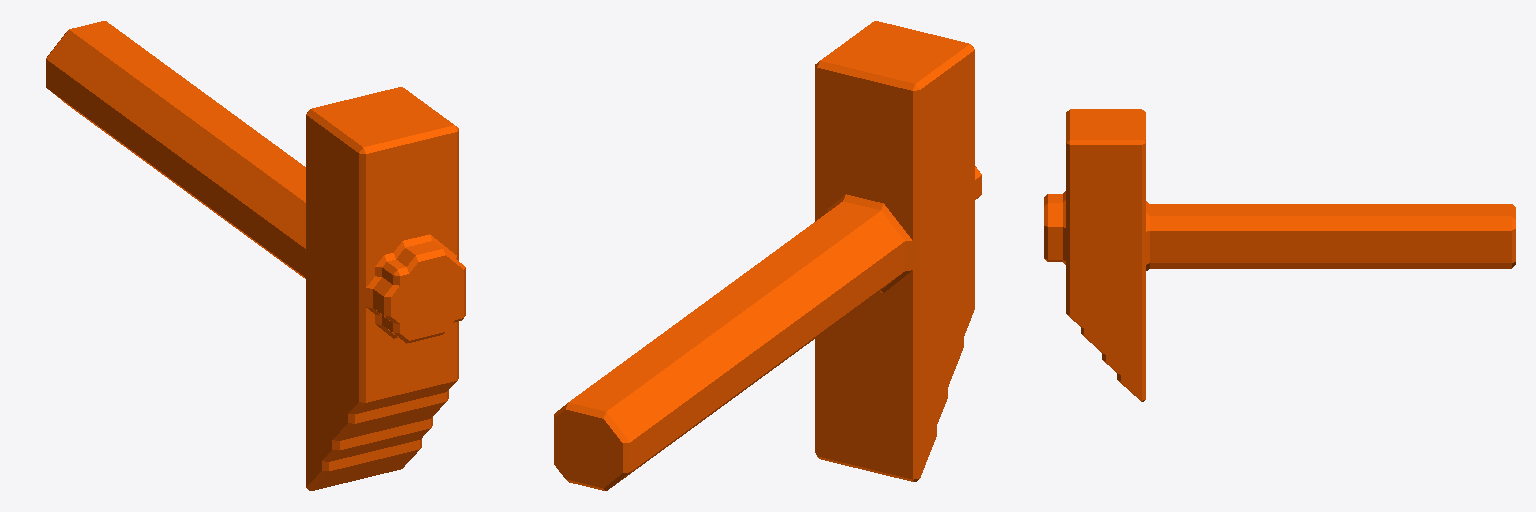
URDF robot description (Hammer_40):
<robot name="Hammer_40">
   <material name="obj_color">
      <color rgba="1.0 0.423529411765 0.0392156862745 1.0" />
   </material>
   <link name="top">
      <inertial>
         <origin rpy="9.125901172428908e-05 0.0004395809322403949 0.0005105114938638855" xyz="1.005177470530471e-05 -0.004956953893298789 0.001061884295576125" />
         <mass value="0.2144803350948126" />
         <inertia ixx="0.000510490454552392" ixy="2.968824023548629e-06" ixz="-4.862106100293714e-09" iyy="9.13463571222902e-05" iyz="4.805879009439267e-06" izz="0.0004395146261538873" />
      </inertial>
      <visual>
         <origin rpy="0 0 0" xyz="0 0 0" />
         <geometry>
            <mesh filename="top_watertight_tiny.stl" scale="1 1 1" />
         </geometry>
         <material name="obj_color" />
      </visual>
      <collision>
         <origin rpy="0 0 0" xyz="0 0 0" />
         <geometry>
            <mesh filename="top_watertight_tiny.obj" scale="1 1 1" />
         </geometry>
      </collision>
   </link>
   <link name="bottom">
      <inertial>
         <origin rpy="1.633333333194242e-08 1.633333333194243e-08 1.633333333357667e-08" xyz="0.3464080000000008 0.3464080000000008 0.3464080000000008" />
         <mass value="0.0009800000000000017" />
         <inertia ixx="1.633333333248717e-08" ixy="5.447480642029219e-19" ixz="5.447480642029219e-19" iyy="1.633333333248717e-08" iyz="5.447480642029219e-19" izz="1.633333333248717e-08" />
      </inertial>
      <visual>
         <origin rpy="0 0 0" xyz="0 0 0" />
         <geometry>
            <mesh filename="bottom_watertight_tiny.stl" scale="1 1 1" />
         </geometry>
         <material name="obj_color" />
      </visual>
   </link>
   <link name="world" />
   <joint name="world_to_base" type="fixed">
      <origin xyz="0 0 0" />
      <axis xyz="0 0 0" />
      <parent link="world" />
      <child link="bottom" />
   </joint>
   <joint name="rotation" type="revolute">
      <origin xyz="0 0 0" />
      <axis xyz="0 0 -1" />
      <parent link="bottom" />
      <child link="top" />
      <dynamics damping="1.0" friction="1.0" />
      <limit effort="0.1" velocity="0.1" lower="0" upper="0.001" />
   </joint>
</robot>

--- Facts derived from the render (not from the file) ---
3 views of the same robot in one strip: view 1: azimuth 30°, elevation 25°; view 2: azimuth 150°, elevation 25°; view 3: azimuth 270°, elevation 25° (orthographic).
Model Hammer_40 with 3 links and 2 joints (1 revolute, 1 fixed), rooted at world, posed every joint at zero.
Visible links, largest first — view 1: top; view 2: top; view 3: top.
Link boxes in pixels (bbox=[...]): top: bbox=[46, 21, 465, 490]; top: bbox=[554, 21, 981, 490]; top: bbox=[1044, 109, 1515, 401].
Size in the robot's own frame: 0.0274 by 0.1619 by 0.0996 metres.
1 mesh visuals loaded from 2 distinct referenced files (1 binary STL); not drawn: 1 (reference not matched to a file when rendering).